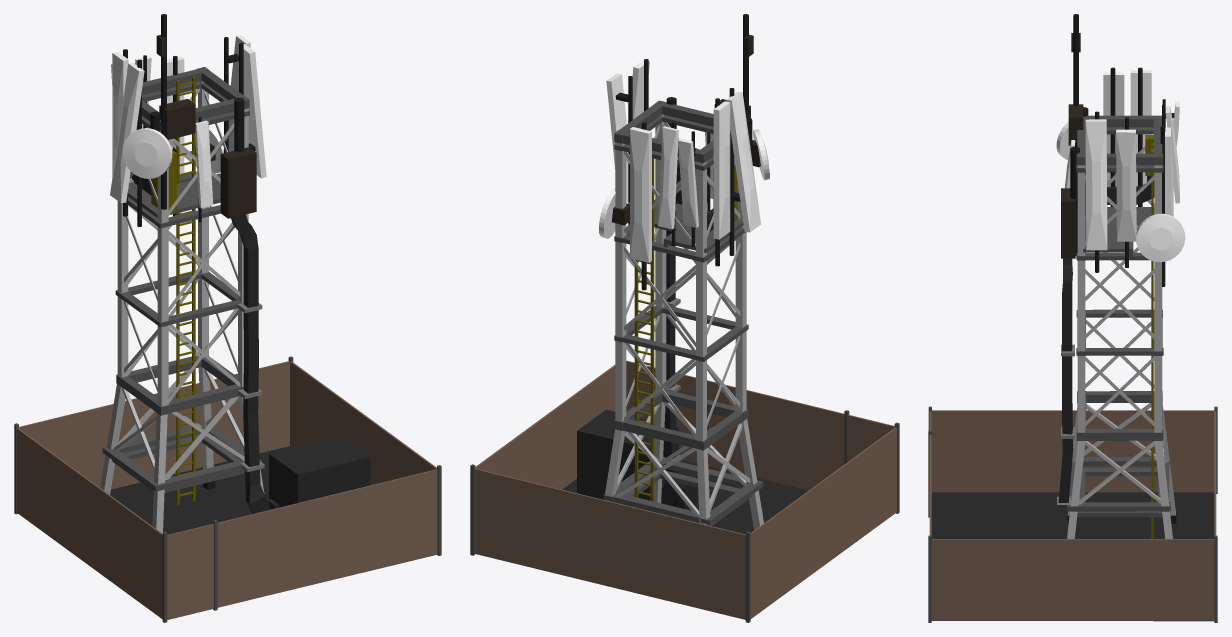
File: radio_tower.fbx
3 renders of one model, left to right at view 1: azimuth 30°, elevation 25°; view 2: azimuth 150°, elevation 25°; view 3: azimuth 270°, elevation 25°, orthographic. The views are drawn at different scales.
Parts seen in each view (by area): view 1: Cube.029, Cube.025, Cube.009, Cylinder.007, Cube.027, Plane, Plane.001, Cube.034, Cube.008, Cube.017, Cube.032; view 2: Cube.029, Cube.025, Cylinder.007, Cube.009, Cube.027, Cube.017, Cube.008, Plane, Plane.001, Cube.032, Cube.034; view 3: Cube.029, Cylinder.007, Cube.025, Cube.009, Plane, Plane.001, Cube.017, Cube.027, Cube.034, Cube.032, Cube.008.
Boxes of the visible parts, x1,y1,x2,y2 form: Cube.029: [16, 361, 437, 619]; Cube.025: [100, 81, 264, 533]; Cube.009: [102, 67, 261, 493]; Cylinder.007: [110, 35, 266, 208]; Cube.027: [267, 436, 370, 509]; Plane: [110, 446, 437, 584]; Plane.001: [131, 174, 271, 513]; Cube.034: [156, 35, 256, 218]; Cube.008: [136, 76, 195, 504]; Cube.017: [123, 14, 255, 226]; Cube.032: [14, 356, 441, 622]; Cube.029: [474, 360, 896, 619]; Cube.025: [605, 114, 763, 530]; Cylinder.007: [599, 59, 769, 262]; Cube.009: [603, 100, 763, 525]; Cube.027: [577, 409, 697, 509]; Cube.017: [615, 14, 752, 290]; Cube.008: [634, 158, 737, 501]; Plane: [562, 459, 808, 534]; Plane.001: [661, 208, 713, 506]; Cube.032: [470, 410, 899, 622]; Cube.034: [611, 34, 760, 225]; Cube.029: [929, 410, 1216, 620]; Cylinder.007: [1056, 70, 1185, 261]; Cube.025: [1067, 146, 1175, 538]; Cube.009: [1067, 115, 1170, 517]; Plane: [931, 492, 1214, 621]; Plane.001: [1058, 176, 1154, 516]; Cube.017: [1070, 14, 1174, 286]; Cube.027: [1011, 505, 1067, 538]; Cube.034: [1061, 33, 1083, 258]; Cube.032: [928, 406, 1217, 622]; Cube.008: [1085, 135, 1154, 538].
Bounding box in the file's own units: 871 × 1606 × 817.
